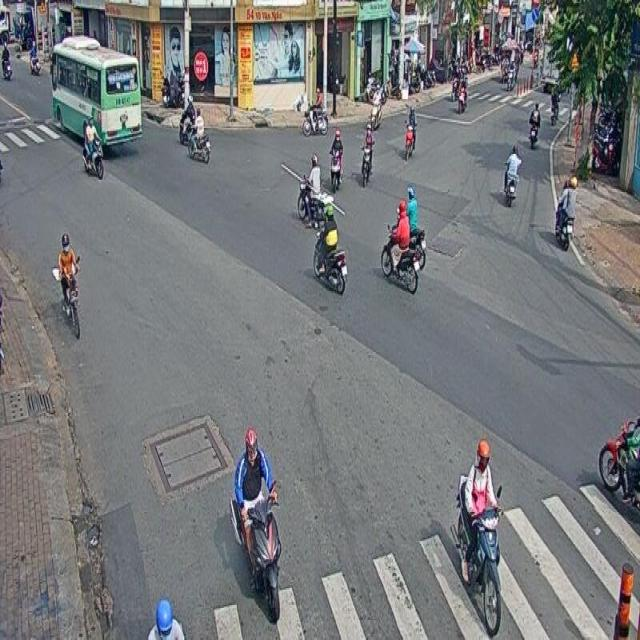bus: (51, 35, 141, 143)
motorcycle: (450, 439, 502, 635), (230, 426, 280, 622), (597, 414, 640, 508), (380, 200, 418, 294), (312, 204, 347, 296), (58, 232, 80, 338), (296, 154, 326, 221), (82, 116, 104, 180), (187, 107, 210, 163), (330, 130, 342, 193), (361, 124, 372, 188)
